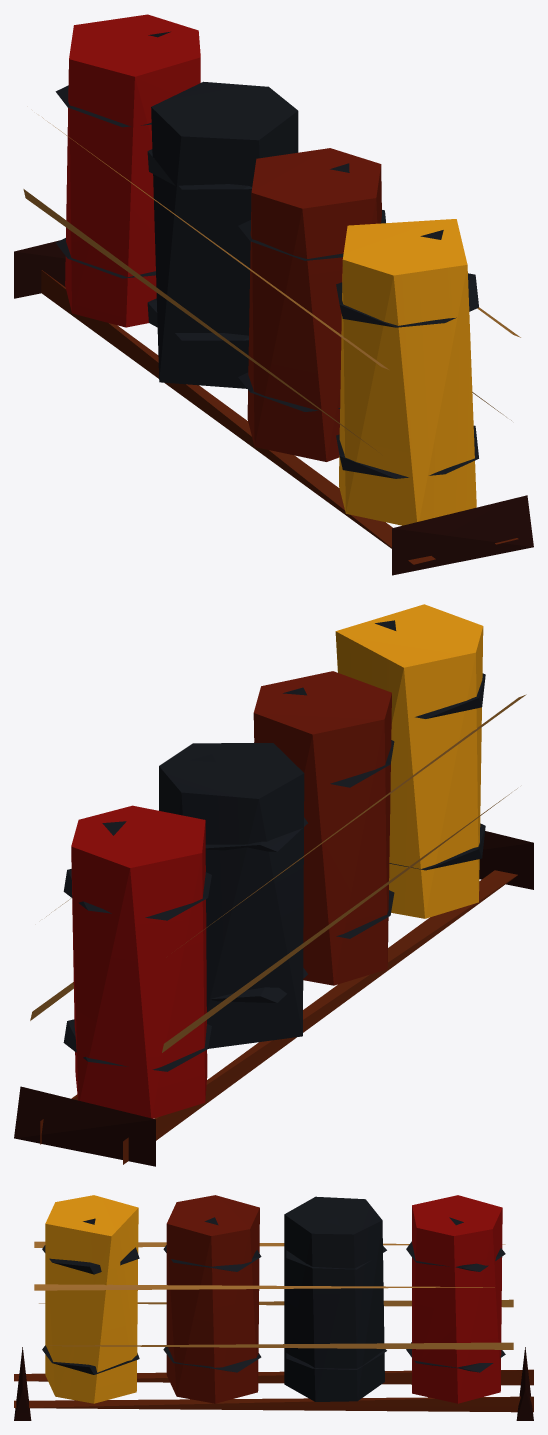
The model's file is tb_upg_fuel_drums.three-web-toon.lod25.glb.
3 renders of one model, top to bottom at view 1: azimuth 30°, elevation 25°; view 2: azimuth 150°, elevation 25°; view 3: azimuth 270°, elevation 25°, orthographic. The views are drawn at different scales.
Parts seen in each view (by area): view 1: tb_upg_fuel_drums_mesh_lod; view 2: tb_upg_fuel_drums_mesh_lod; view 3: tb_upg_fuel_drums_mesh_lod.
Part boxes in pixels (x1,y1,x2,y2): tb_upg_fuel_drums_mesh_lod: (14,14,533,575); tb_upg_fuel_drums_mesh_lod: (14,604,533,1166); tb_upg_fuel_drums_mesh_lod: (14,1195,533,1420).
Size of the model in its own units: 0.3727 by 0.7171 by 1.8.
